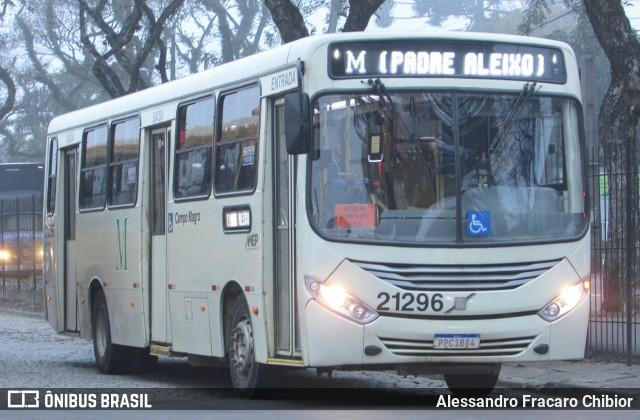PADRE ALEIXO: (388, 47, 538, 79)
